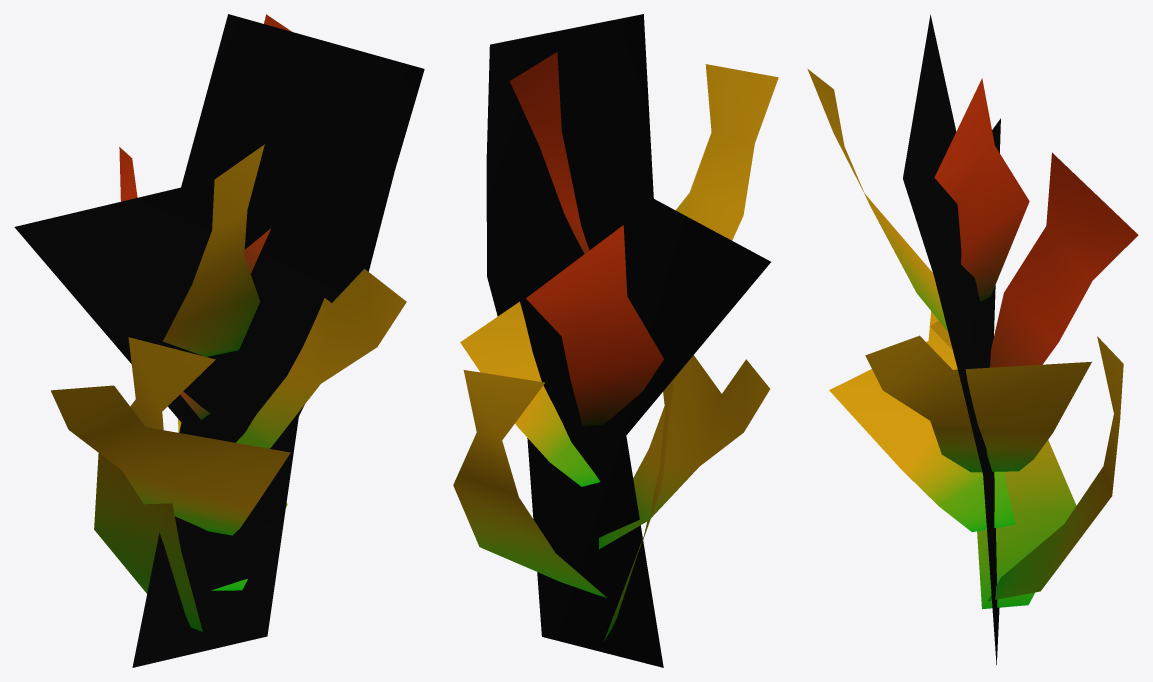
File: Var4Hi25.fbx
3 views of the same model, side by side, from view 1: azimuth 30°, elevation 25°; view 2: azimuth 150°, elevation 25°; view 3: azimuth 270°, elevation 25° (orthographic). The views are drawn at different scales.
Parts seen in each view (by area): view 1: bend1; view 2: bend1; view 3: bend1.
Part boxes in pixels (x1=…): bend1: x1=14, y1=14, x2=424, y2=667; bend1: x1=453, y1=14, x2=778, y2=667; bend1: x1=807, y1=14, x2=1138, y2=664.
Bounding box in the file's own units: 1.3 × 2.31 × 1.12.
